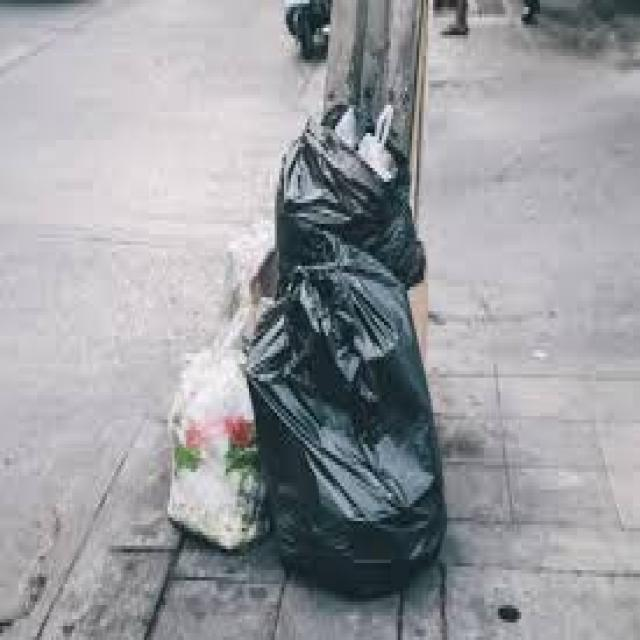plastic_bag: (252, 270, 427, 547), (271, 116, 422, 260)
